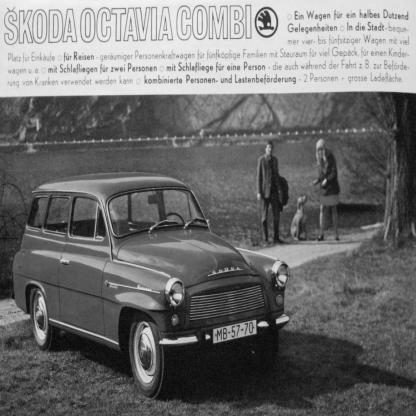car: (3, 156, 300, 404)
